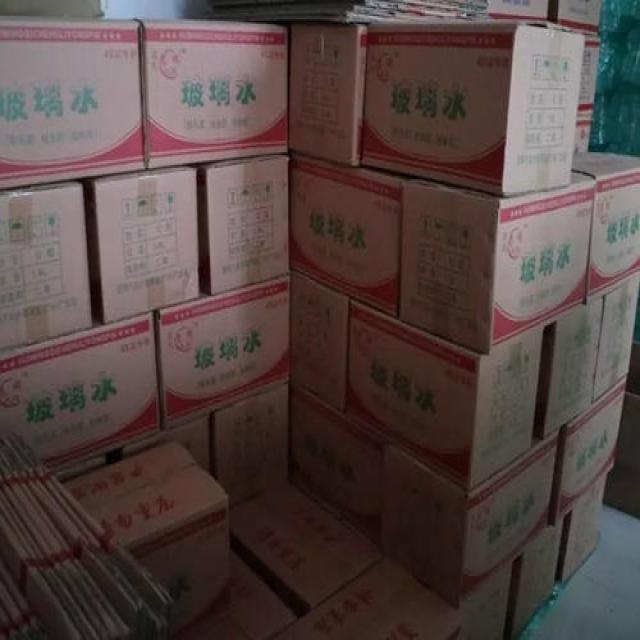box: (360, 14, 585, 197), (346, 296, 545, 491), (397, 170, 595, 354), (0, 430, 174, 638), (60, 437, 230, 638), (380, 427, 559, 600), (0, 310, 163, 472), (0, 14, 147, 190), (132, 18, 288, 171), (155, 274, 291, 430), (229, 485, 383, 613), (288, 152, 403, 318), (86, 165, 201, 323), (265, 555, 463, 640), (288, 382, 385, 550), (0, 179, 93, 350), (197, 154, 291, 294), (549, 374, 628, 526), (172, 546, 298, 640), (288, 21, 369, 166), (383, 555, 513, 638), (573, 150, 640, 304), (535, 296, 603, 438), (212, 382, 288, 509), (291, 270, 349, 416), (504, 515, 564, 638), (206, 0, 490, 22), (557, 470, 608, 586), (116, 413, 210, 475), (593, 275, 639, 400), (604, 386, 639, 518), (579, 34, 602, 117), (552, 0, 603, 35), (1, 0, 110, 16), (627, 274, 639, 390), (488, 0, 553, 21), (54, 454, 106, 480), (573, 115, 593, 152)
